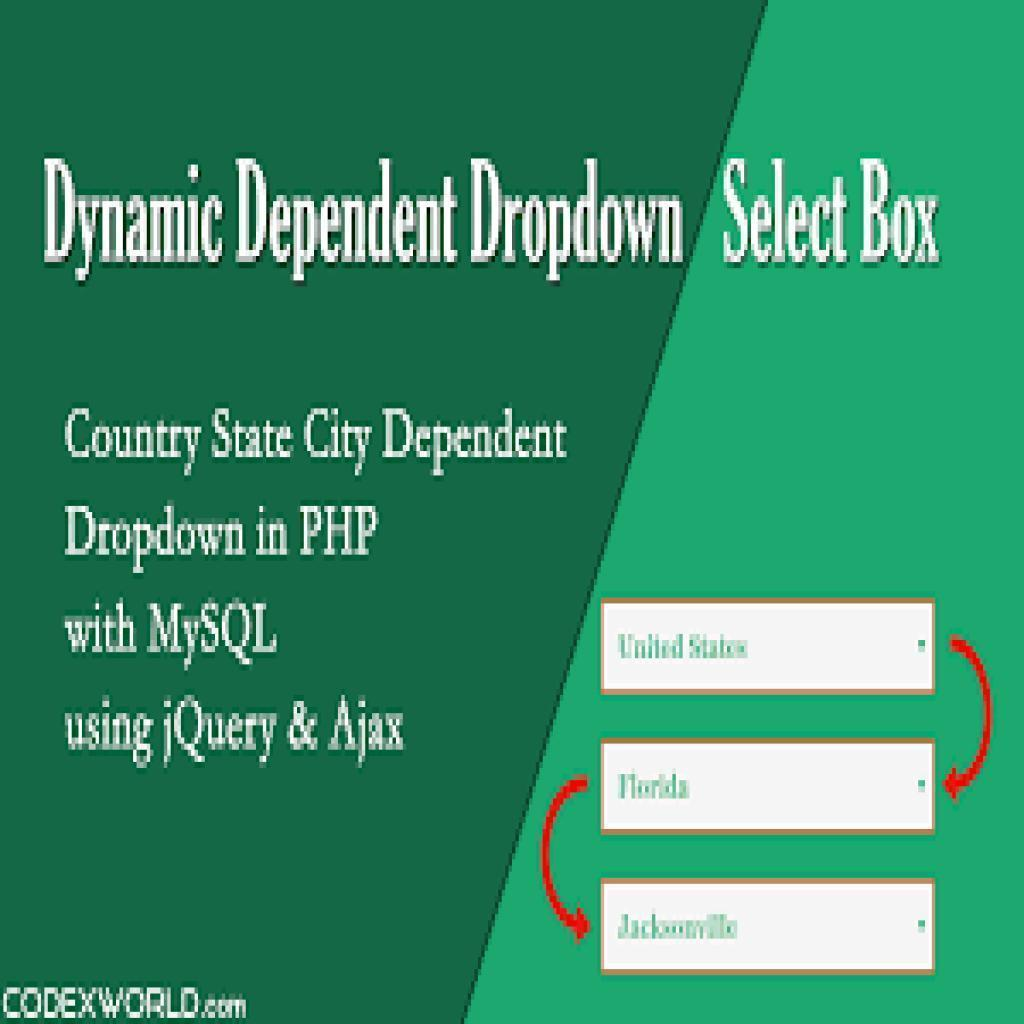dropdown: (599, 738, 936, 835), (602, 598, 935, 695), (598, 878, 936, 971)
